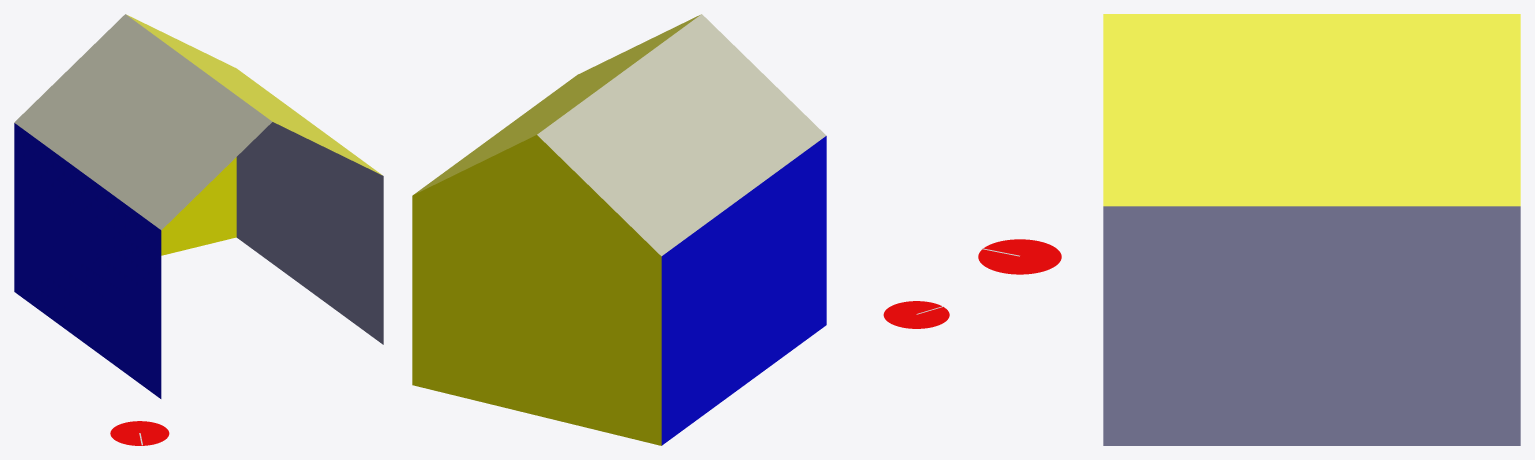
File: result.glb
3 views of the same model, side by side, from view 1: azimuth 30°, elevation 25°; view 2: azimuth 150°, elevation 25°; view 3: azimuth 270°, elevation 25° (orthographic). The views are drawn at different scales.
Parts seen in each view (by area): view 1: f0d3fb45-1505-4db3-aa92-8d2b6dc7e241__undefined, 3e6a553c-09b4-487f-ac86-7721f8a21a73__undefined, e408574e-f6b1-4388-baf8-6ac64e6eb5e3__undefined, 612804bd-e3f8-4c04-850d-754afef099b3__undefined, 5e117157-82bb-4ff6-9144-6f89d64fa873__undefined, e36cdab9-dc5c-49fd-a0d8-ff9e9ec3ed62__Circle; view 2: 5e117157-82bb-4ff6-9144-6f89d64fa873__undefined, f0d3fb45-1505-4db3-aa92-8d2b6dc7e241__undefined, 3e6a553c-09b4-487f-ac86-7721f8a21a73__undefined, 612804bd-e3f8-4c04-850d-754afef099b3__undefined, e36cdab9-dc5c-49fd-a0d8-ff9e9ec3ed62__Circle; view 3: e408574e-f6b1-4388-baf8-6ac64e6eb5e3__undefined, 612804bd-e3f8-4c04-850d-754afef099b3__undefined, e36cdab9-dc5c-49fd-a0d8-ff9e9ec3ed62__Circle.
Part boxes in pixels (x1=…): f0d3fb45-1505-4db3-aa92-8d2b6dc7e241__undefined: x1=14, y1=14, x2=272, y2=230; 3e6a553c-09b4-487f-ac86-7721f8a21a73__undefined: x1=14, y1=123, x2=161, y2=398; e408574e-f6b1-4388-baf8-6ac64e6eb5e3__undefined: x1=236, y1=122, x2=383, y2=344; 612804bd-e3f8-4c04-850d-754afef099b3__undefined: x1=126, y1=14, x2=382, y2=175; 5e117157-82bb-4ff6-9144-6f89d64fa873__undefined: x1=161, y1=157, x2=236, y2=255; e36cdab9-dc5c-49fd-a0d8-ff9e9ec3ed62__Circle: x1=110, y1=421, x2=169, y2=445; 5e117157-82bb-4ff6-9144-6f89d64fa873__undefined: x1=412, y1=135, x2=661, y2=445; f0d3fb45-1505-4db3-aa92-8d2b6dc7e241__undefined: x1=537, y1=14, x2=826, y2=256; 3e6a553c-09b4-487f-ac86-7721f8a21a73__undefined: x1=661, y1=136, x2=826, y2=445; 612804bd-e3f8-4c04-850d-754afef099b3__undefined: x1=413, y1=15, x2=699, y2=194; e36cdab9-dc5c-49fd-a0d8-ff9e9ec3ed62__Circle: x1=883, y1=301, x2=949, y2=328; e408574e-f6b1-4388-baf8-6ac64e6eb5e3__undefined: x1=1103, y1=206, x2=1520, y2=445; 612804bd-e3f8-4c04-850d-754afef099b3__undefined: x1=1103, y1=14, x2=1520, y2=206; e36cdab9-dc5c-49fd-a0d8-ff9e9ec3ed62__Circle: x1=978, y1=239, x2=1061, y2=274.
Bounding box in the file's own units: 586 × 469 × 650.
